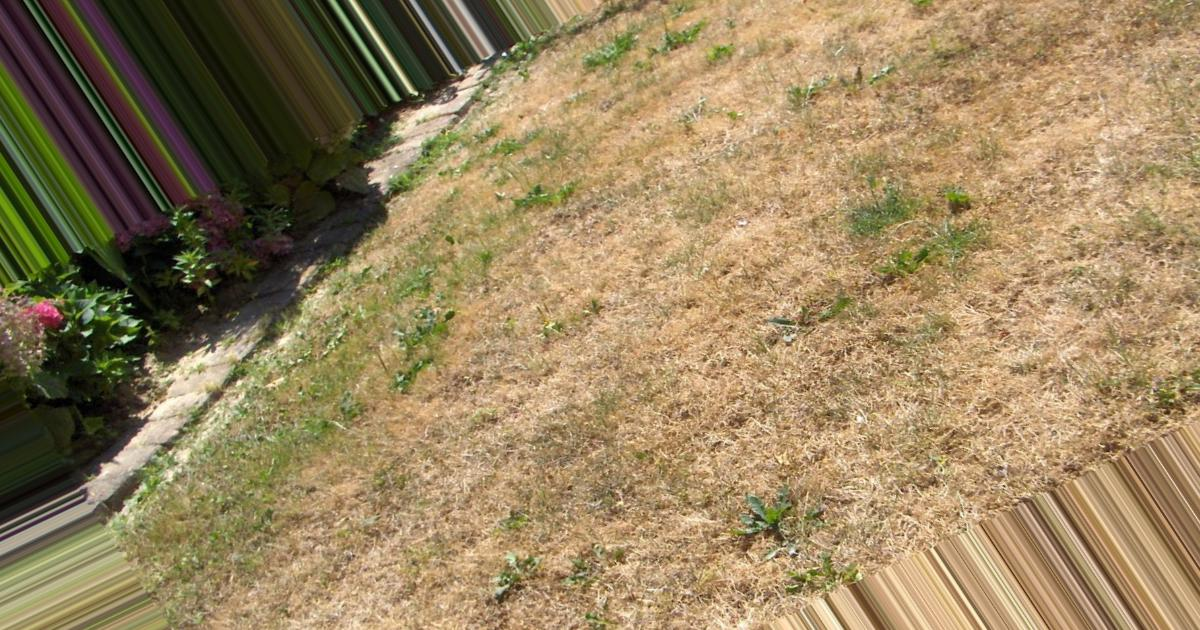patch: (638, 199, 909, 526), (716, 76, 1109, 181), (936, 283, 1102, 406), (443, 410, 573, 524), (334, 522, 423, 630), (950, 201, 1107, 262), (479, 303, 545, 383), (570, 287, 632, 372), (604, 103, 675, 165)
